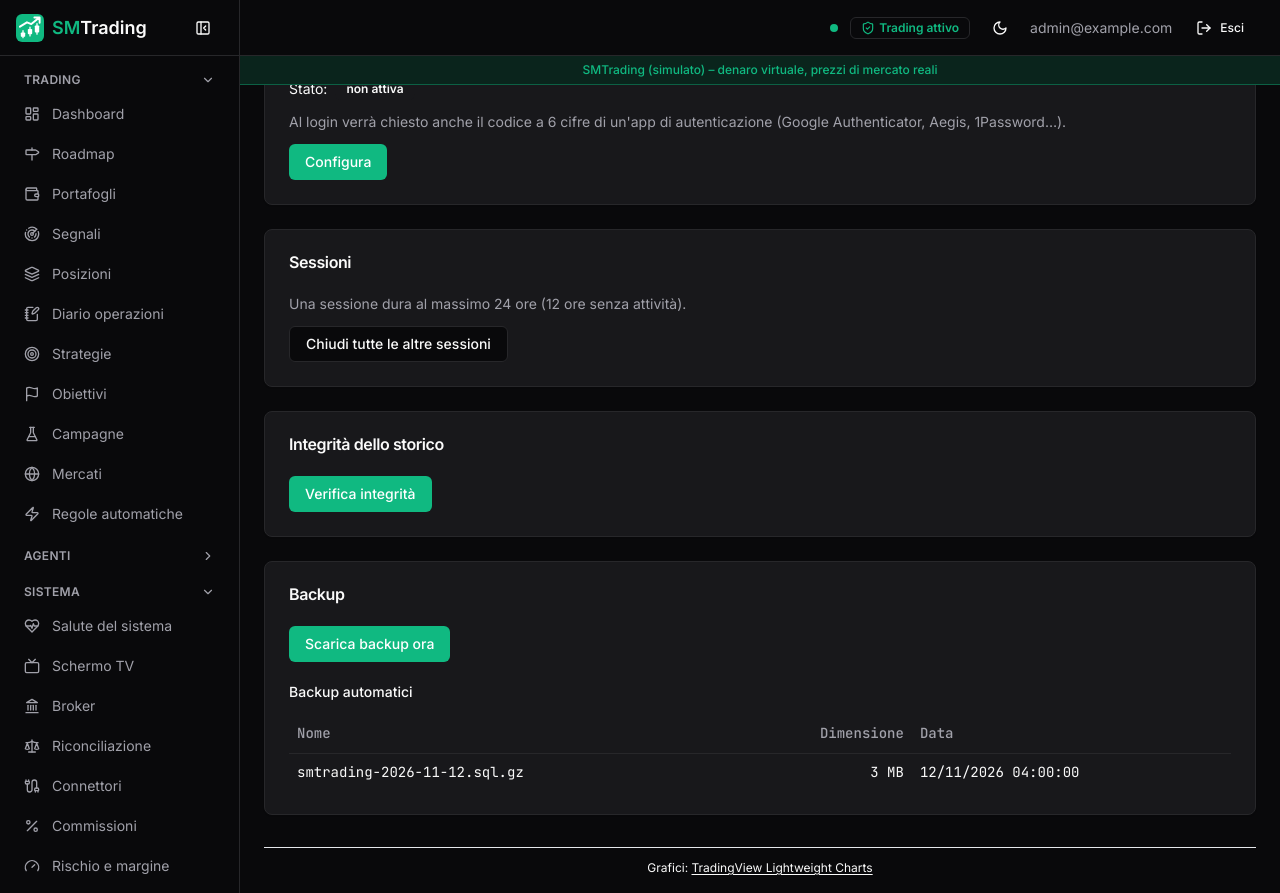
Test: Settings › shows the server error when a backup is already running
(page scrolled)
Click the button "Scarica backup ora" at (370, 644), box [289,626,450,662]
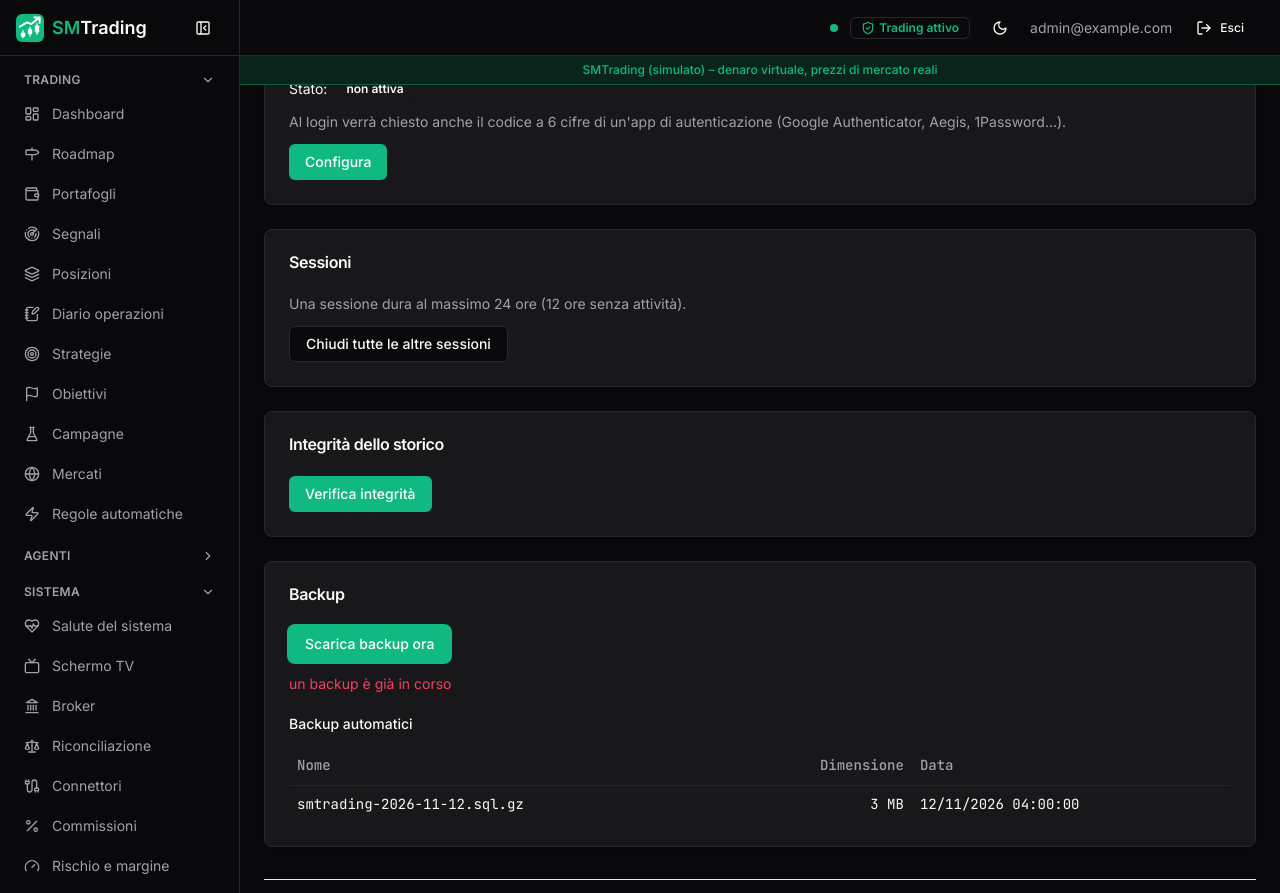
Expected: the text "un backup è già in corso" is shown, [289,674,452,692]
